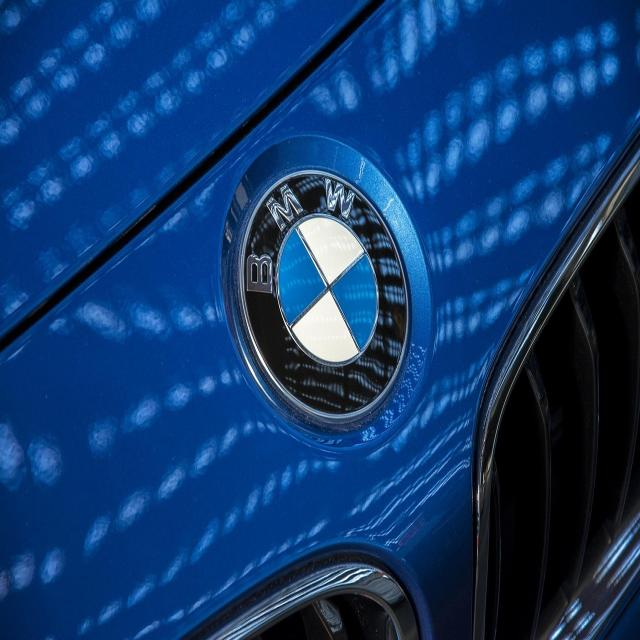bmw: (232, 163, 413, 433)
